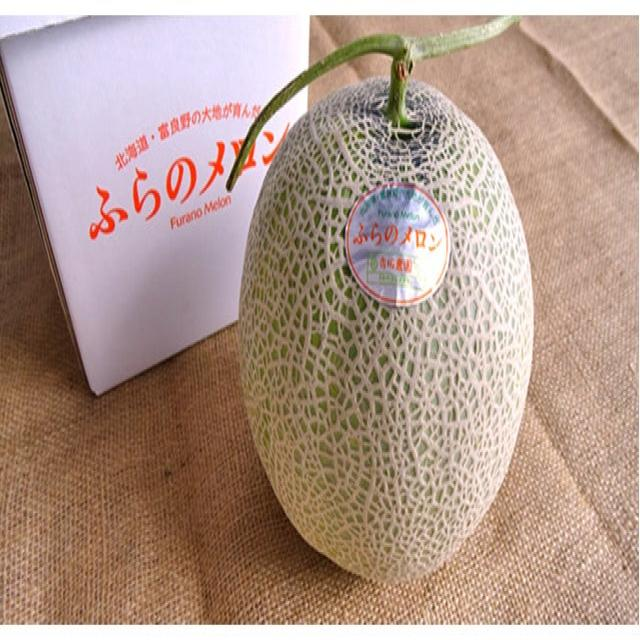melon: (224, 15, 534, 584)
